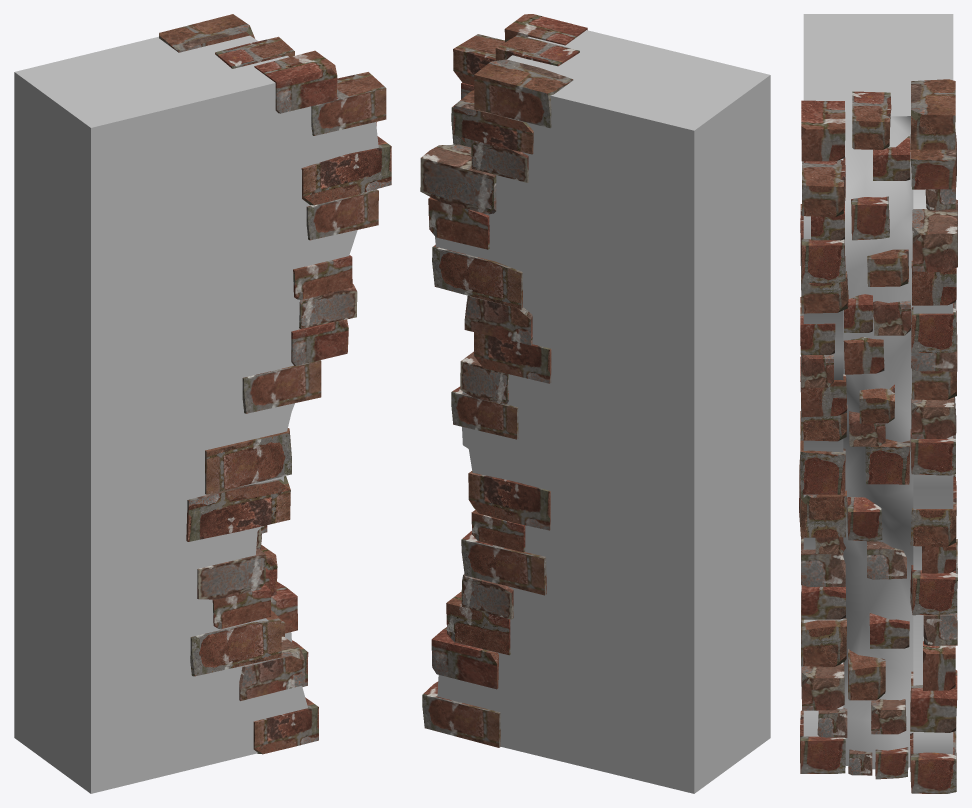
Rendered from SM_Wall_Thick_Ruined_07.fbx.
3 views of the same model, side by side, from view 1: azimuth 30°, elevation 25°; view 2: azimuth 150°, elevation 25°; view 3: azimuth 270°, elevation 25° (orthographic). The views are drawn at different scales.
Parts seen in each view (by area): view 1: SM_Wall_Thick_Ruined_07_LOD0; view 2: SM_Wall_Thick_Ruined_07_LOD0; view 3: SM_Wall_Thick_Ruined_07_LOD0.
Part boxes in pixels (x1,y1,x2,y2): SM_Wall_Thick_Ruined_07_LOD0: [14, 14, 391, 793]; SM_Wall_Thick_Ruined_07_LOD0: [420, 14, 770, 793]; SM_Wall_Thick_Ruined_07_LOD0: [799, 14, 957, 793].
Size of what is drawn, in the model's own units: 283 by 609 by 133.
